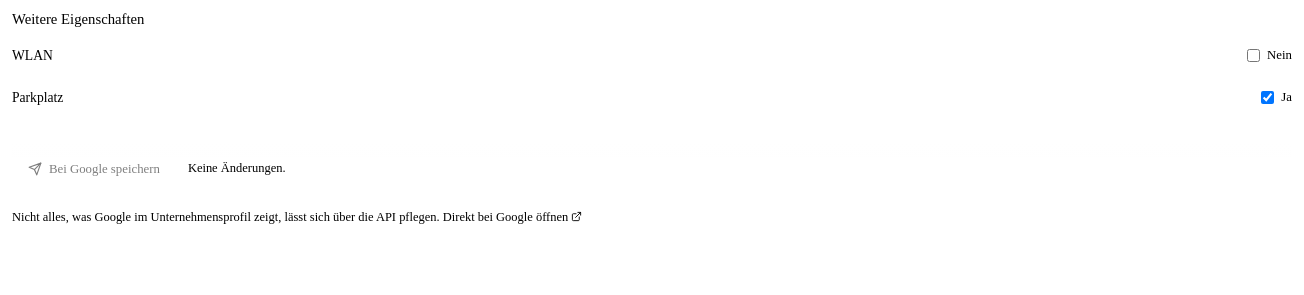
Test: Speichern › zeigt einen Fehler dauerhaft
Click the checkbox named "WLAN" at (1254, 56), box [1247,49,1260,62]
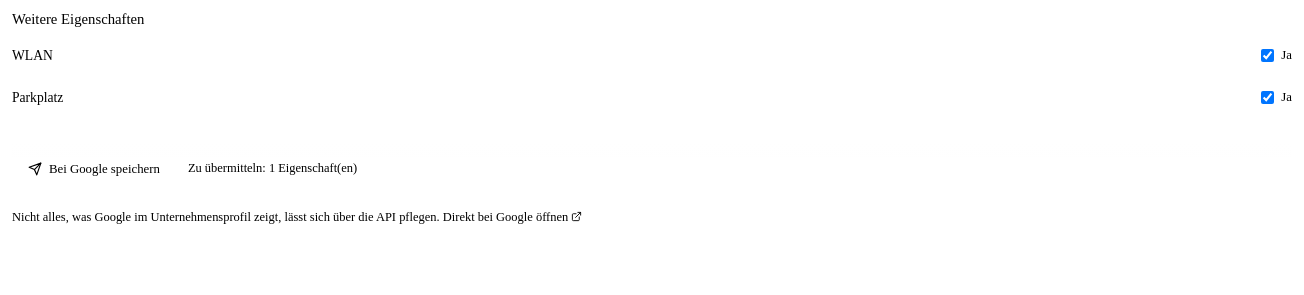
Click the button "Bei Google speichern" at (94, 170), box [12,153,176,186]
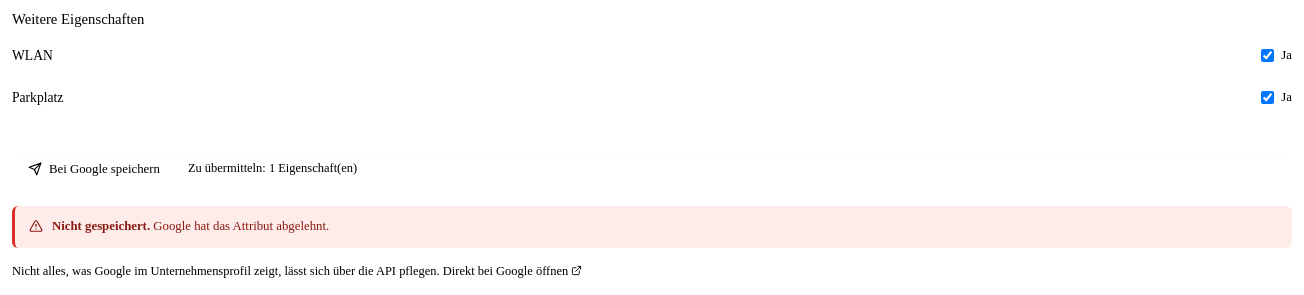
Expected: the message shows "abgelehnt", [153,219,329,233]
